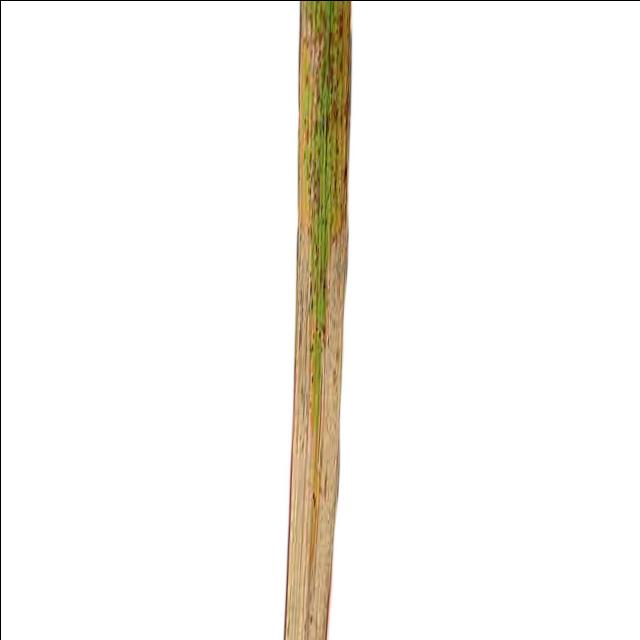Leaf scald: (120, 0, 454, 640)
